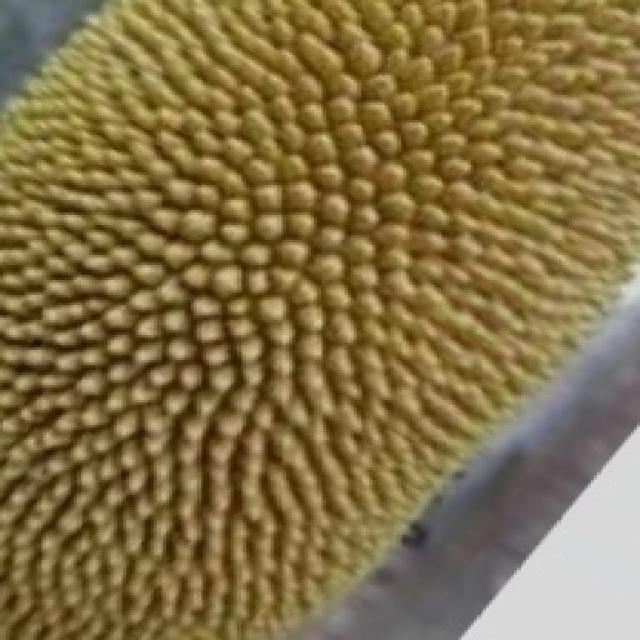Fruit: (0, 0, 406, 470), (252, 0, 639, 372)
